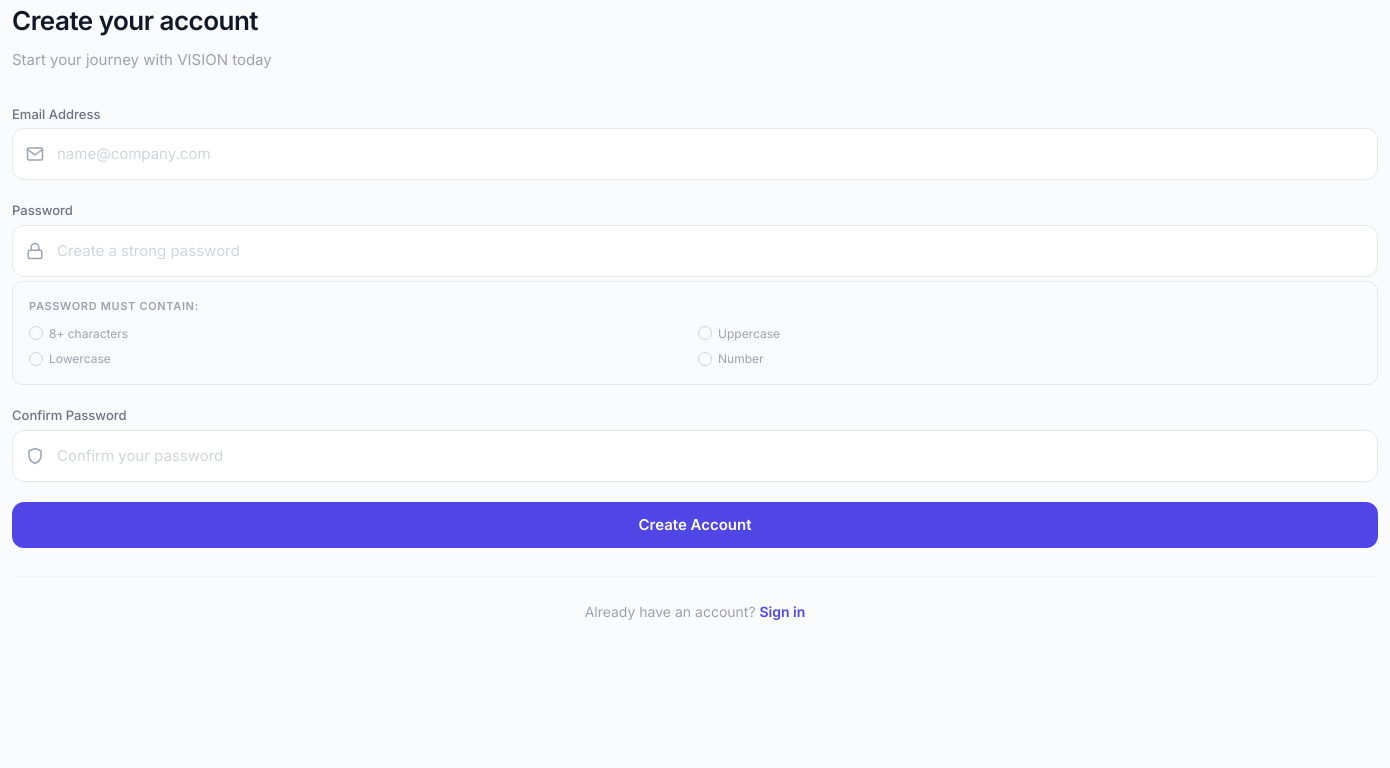
RegisterForm › should show validation error for weak password
The image size is (1390, 768).
In the field labelled "Email Address": (695, 154) [12,128,1378,180], type "test@example.com"
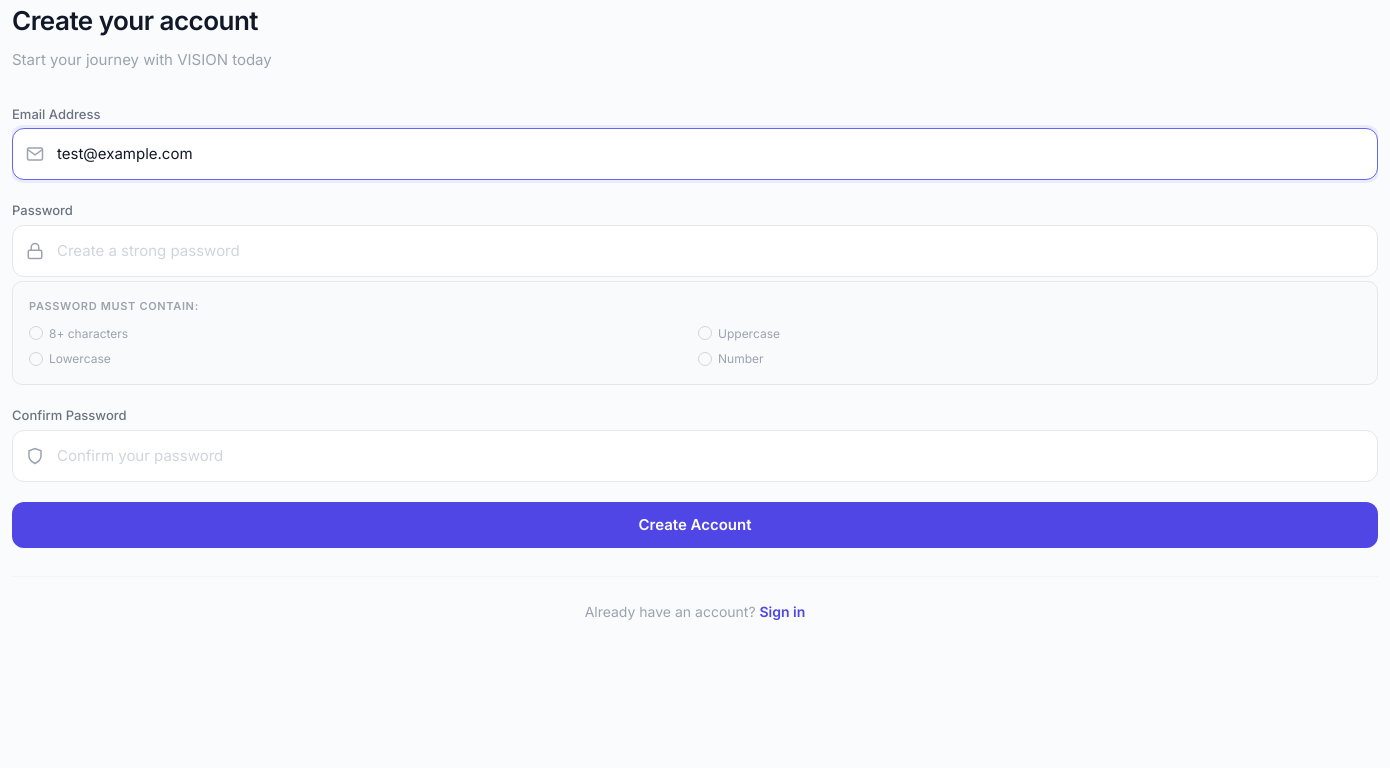
In the password field labelled "Password": (695, 251) [12,225,1378,277], type "weak"
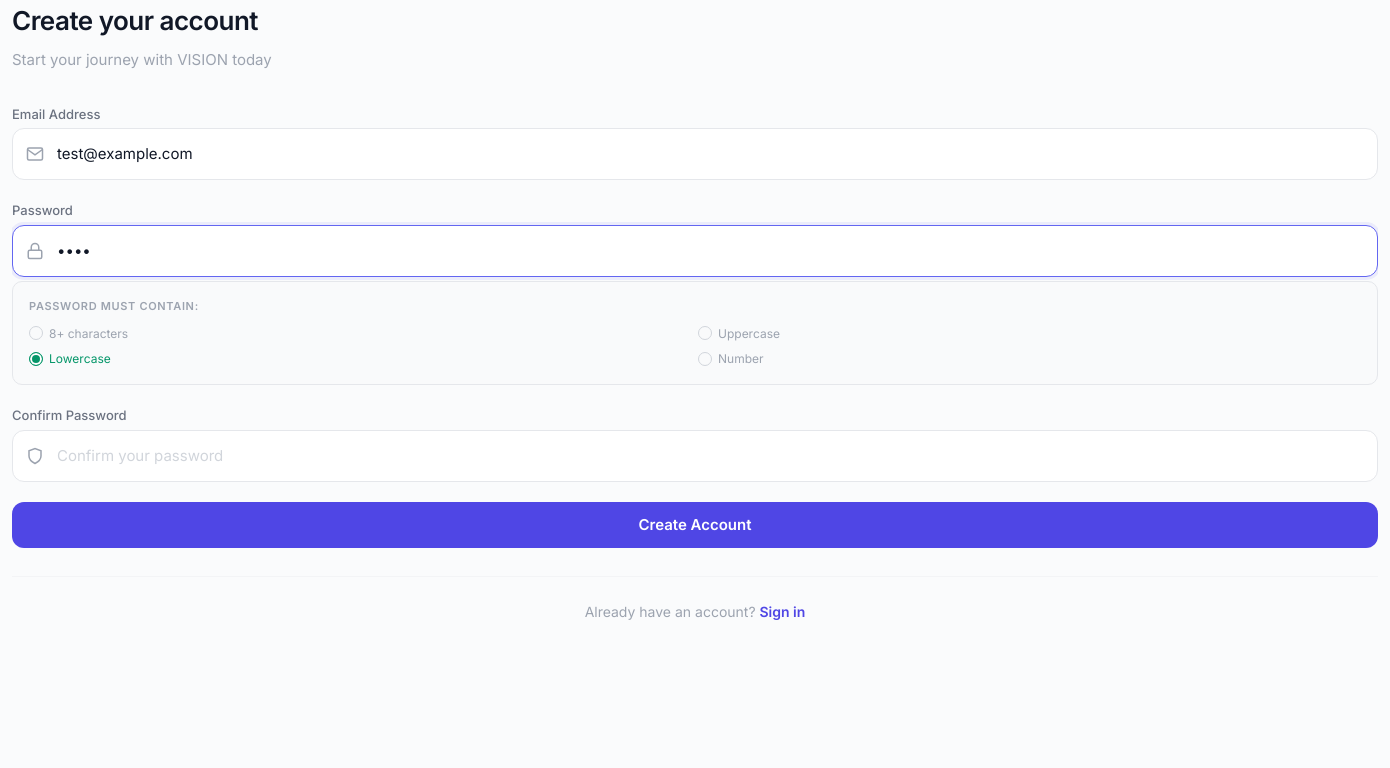
Click the button "Create Account": (695, 525) [12,502,1378,548]
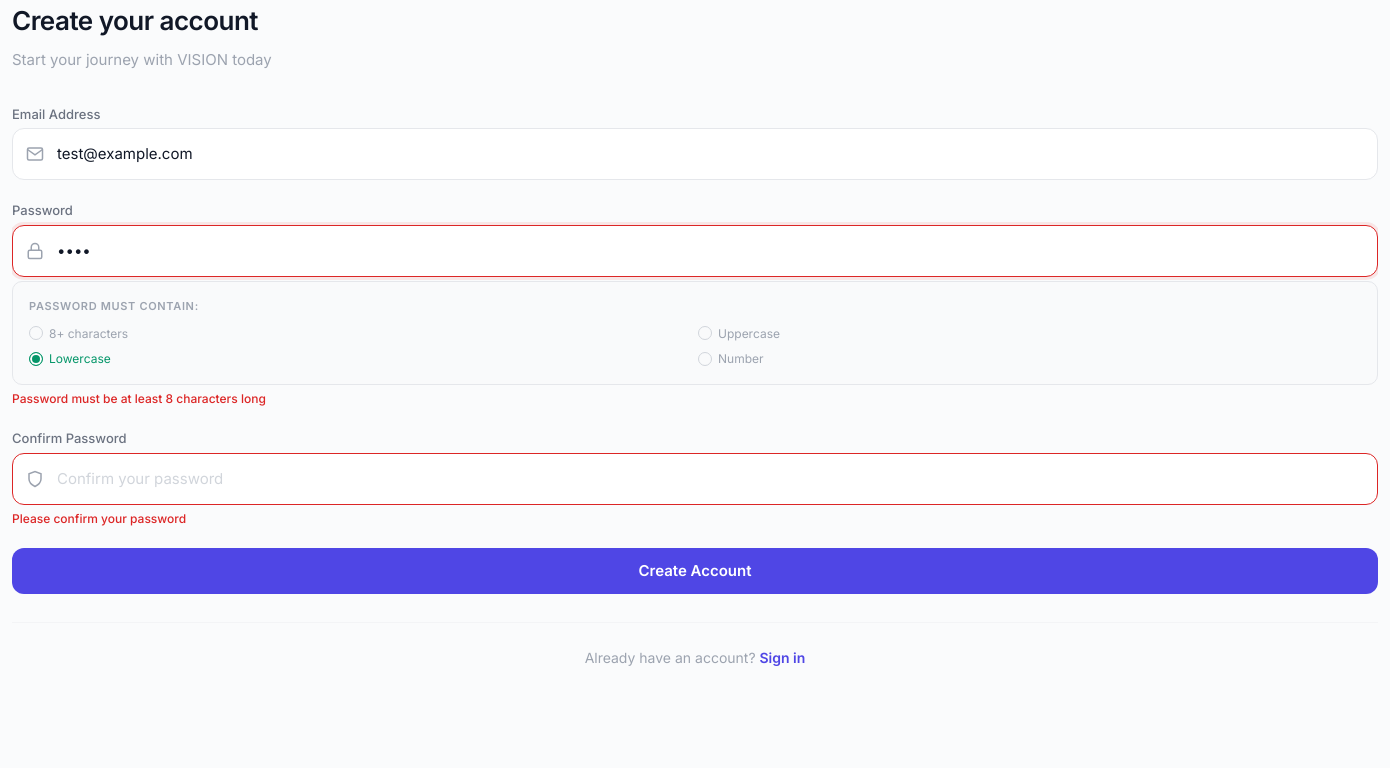
Now the text "Password must be at least 8 characters long" is shown, box [12,391,266,406]
